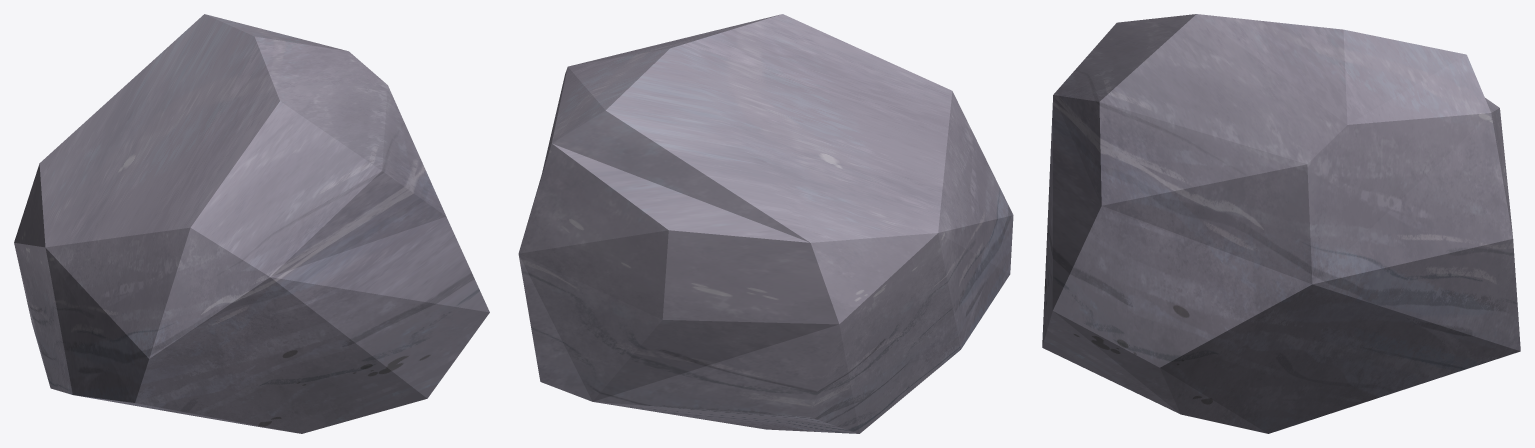
Rendered from rock_2_016.fbx.
3 renders of one model, left to right at view 1: azimuth 30°, elevation 25°; view 2: azimuth 150°, elevation 25°; view 3: azimuth 270°, elevation 25°, orthographic. The views are drawn at different scales.
Visible parts, largest first — view 1: rock 2.016; view 2: rock 2.016; view 3: rock 2.016.
Boxes of the visible parts, x1,y1,x2,y2 form: rock 2.016: (14,14,489,433); rock 2.016: (518,14,1013,433); rock 2.016: (1042,14,1520,433).
Bounding box in the file's own units: 753 × 687 × 764.
